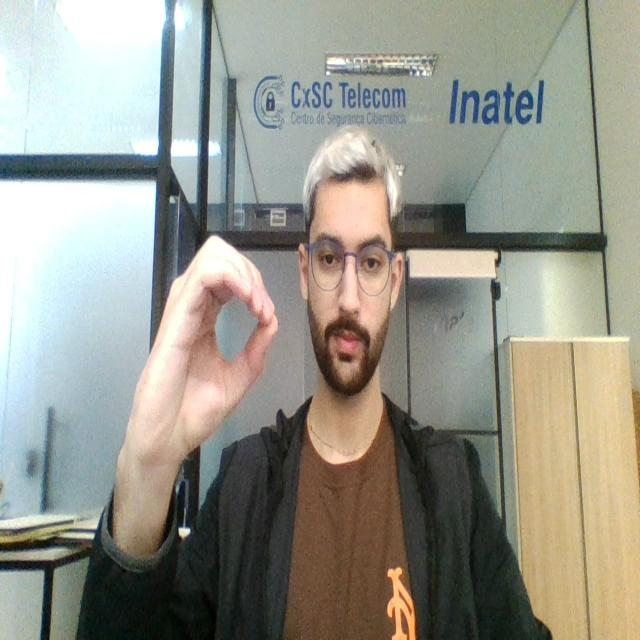O: (147, 235, 279, 442)
